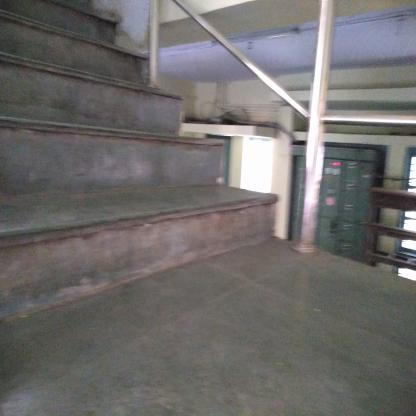stairs: (1, 52, 148, 330)
